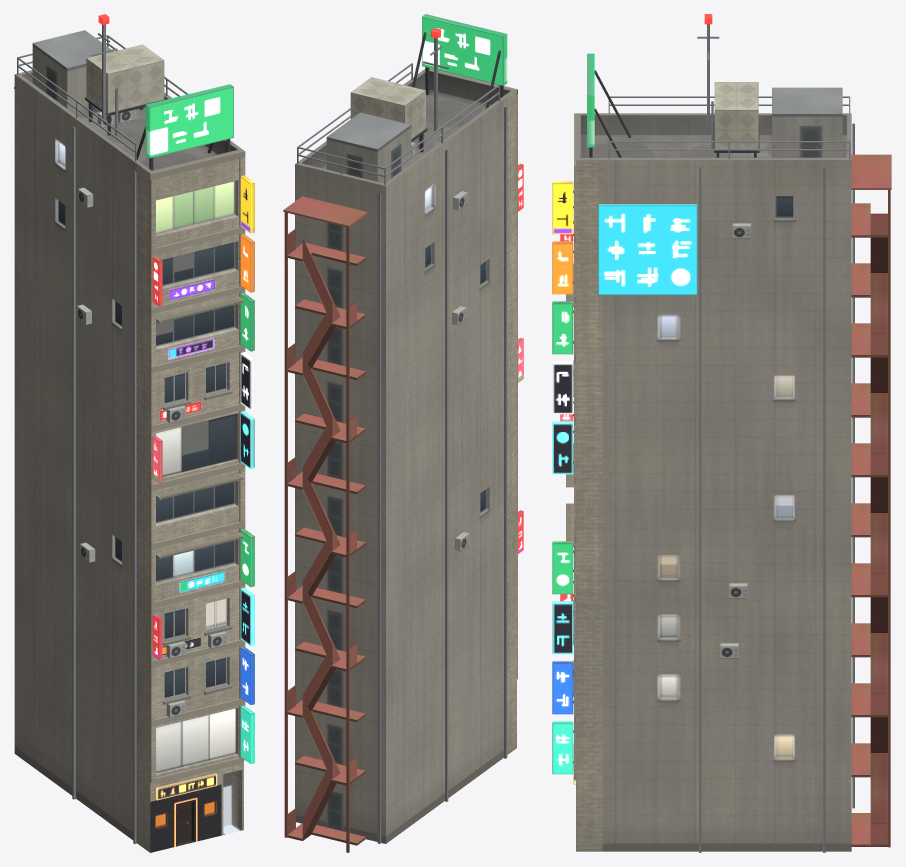
File: tokyo_zakkyo_e.glb
The picture shows the model from 3 angles, left to right: view 1: azimuth 30°, elevation 25°; view 2: azimuth 150°, elevation 25°; view 3: azimuth 270°, elevation 25°; orthographic projection. The views are drawn at different scales.
Visible parts, largest first — view 1: tokyo_zakkyo_e; view 2: tokyo_zakkyo_e; view 3: tokyo_zakkyo_e.
Part boxes in pixels (bbox=[...]): tokyo_zakkyo_e: bbox=[14, 14, 254, 852]; tokyo_zakkyo_e: bbox=[283, 14, 523, 852]; tokyo_zakkyo_e: bbox=[552, 14, 891, 852].
Bounding box in the file's own units: 5.64 × 39.95 × 15.37.
1 material, 1 textured.
